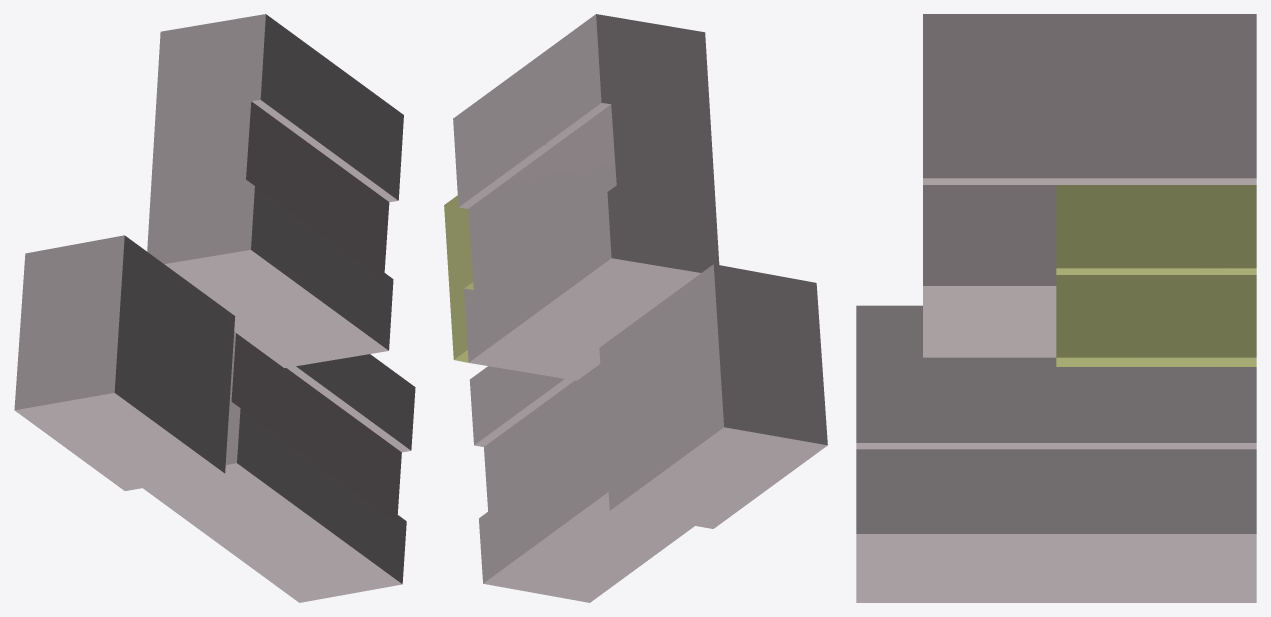
The picture shows the model from 3 angles, left to right: view 1: azimuth 30°, elevation 25°; view 2: azimuth 150°, elevation 25°; view 3: azimuth 270°, elevation 25°; orthographic projection. The views are drawn at different scales.
Parts seen in each view (by area): view 1: 0_2_1_3_0_3_0_2_1_1; view 2: 0_2_1_3_0_3_0_2_1_1; view 3: 0_2_1_3_0_3_0_2_1_1.
Boxes of the visible parts, x1=… form: 0_2_1_3_0_3_0_2_1_1: x1=14, y1=14, x2=415, y2=602; 0_2_1_3_0_3_0_2_1_1: x1=444, y1=14, x2=827, y2=602; 0_2_1_3_0_3_0_2_1_1: x1=856, y1=14, x2=1256, y2=602.
Bounding box in the file's own units: 16.31 × 26.97 × 18.
